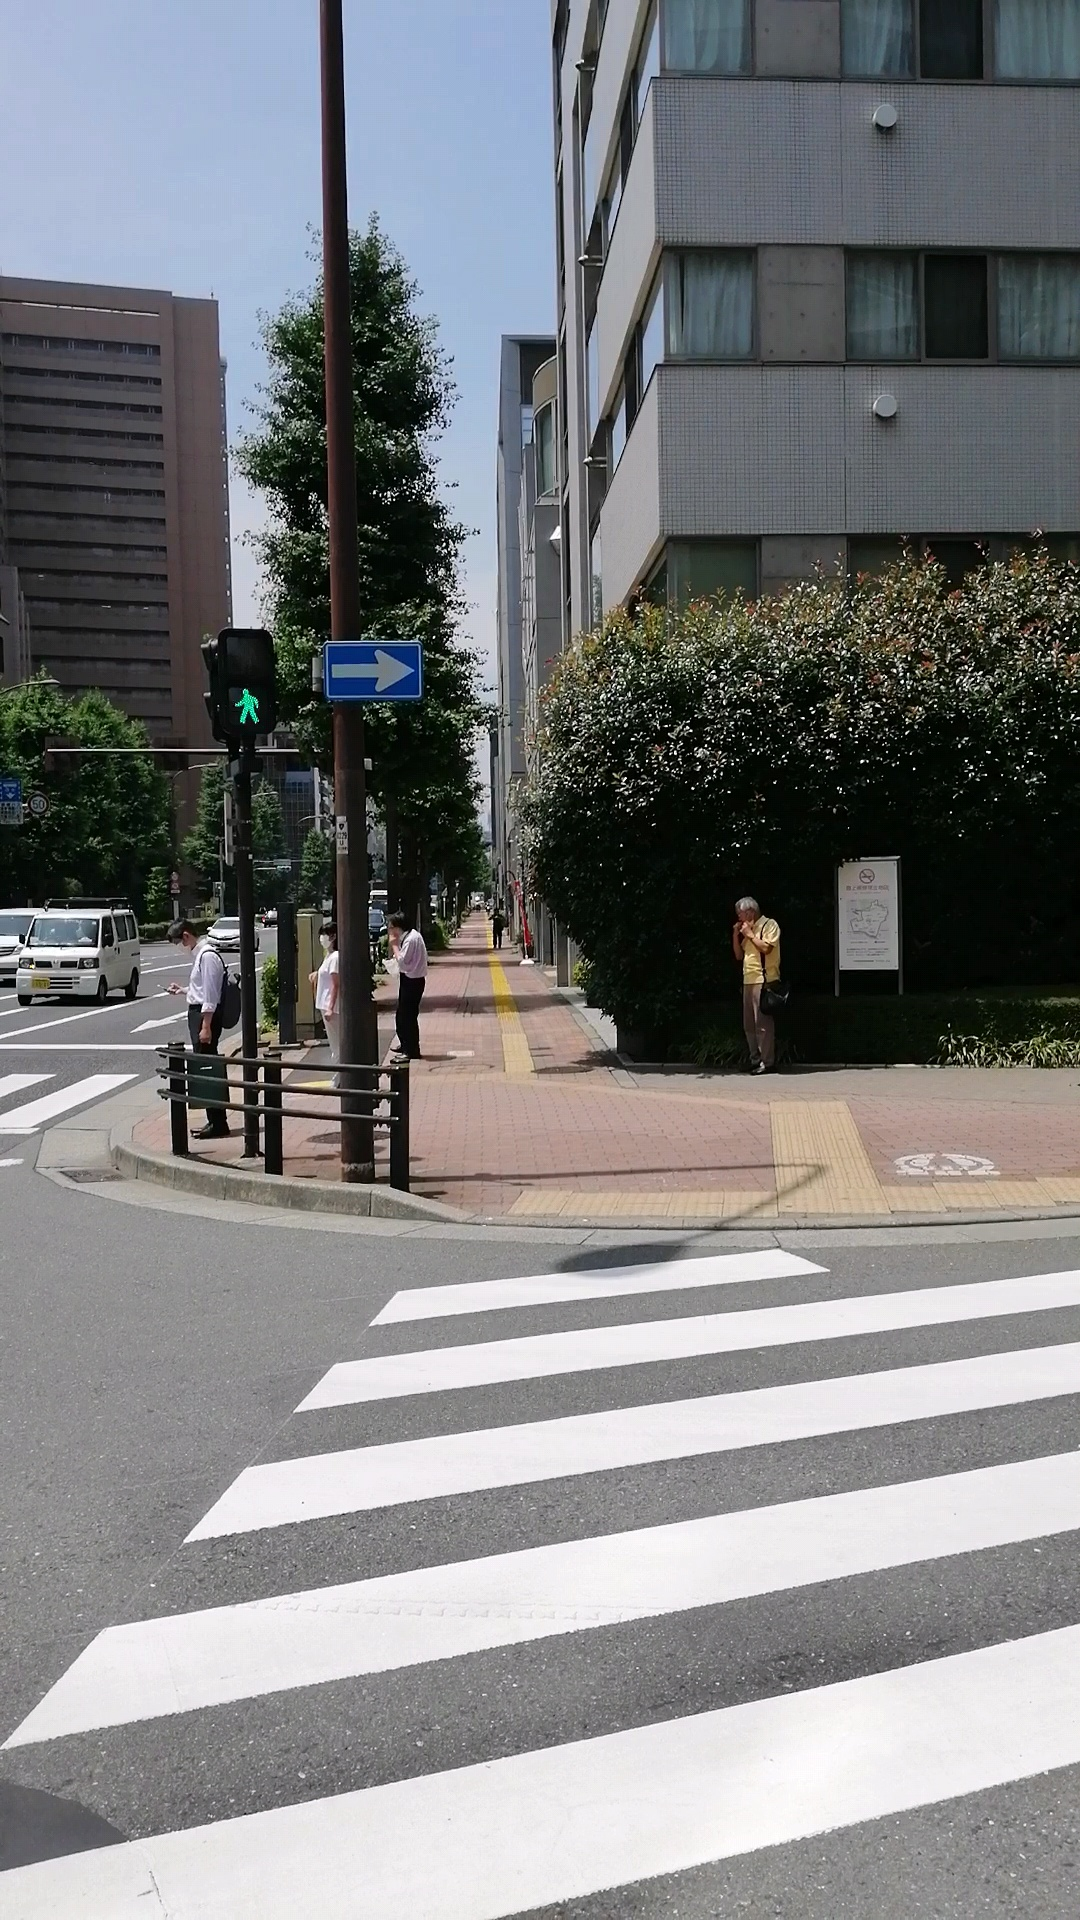green: (219, 629, 276, 742)
